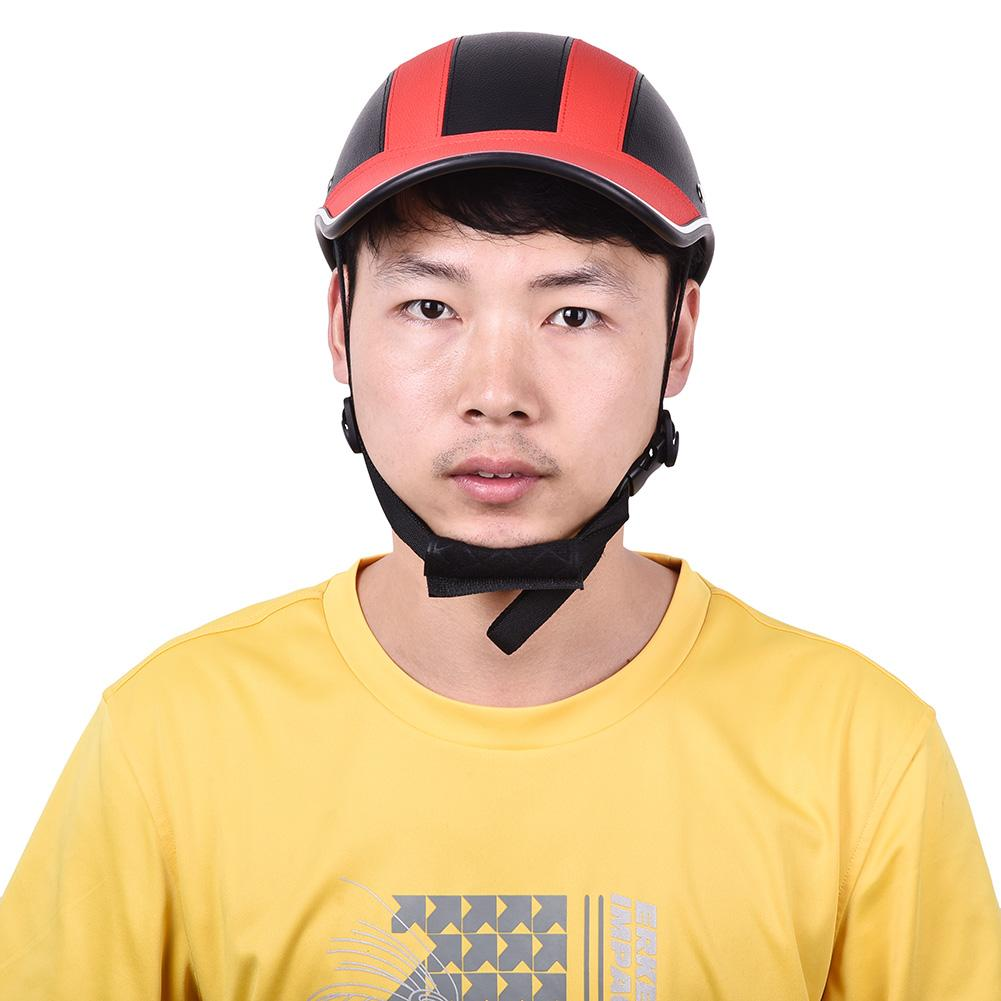helmet: (304, 17, 721, 308)
